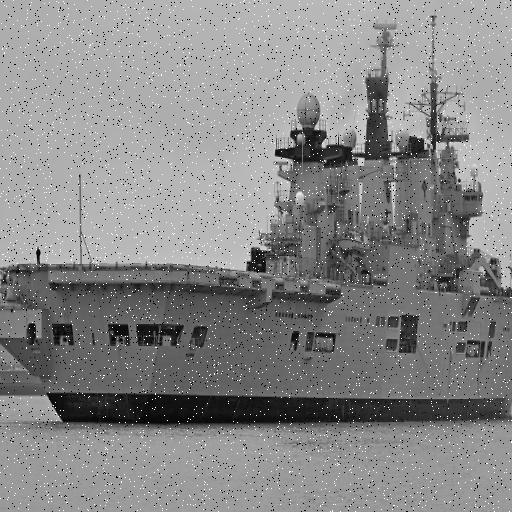Portanaves: (1, 4, 512, 434)
